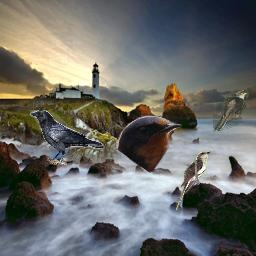Crow: (30, 110, 104, 165)
Cuckoo: (176, 151, 211, 211), (213, 90, 249, 132)
Swallow: (116, 115, 183, 173)
